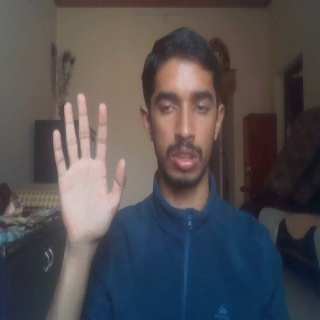Face: (138, 25, 226, 195)
Hello: (49, 91, 127, 249)
